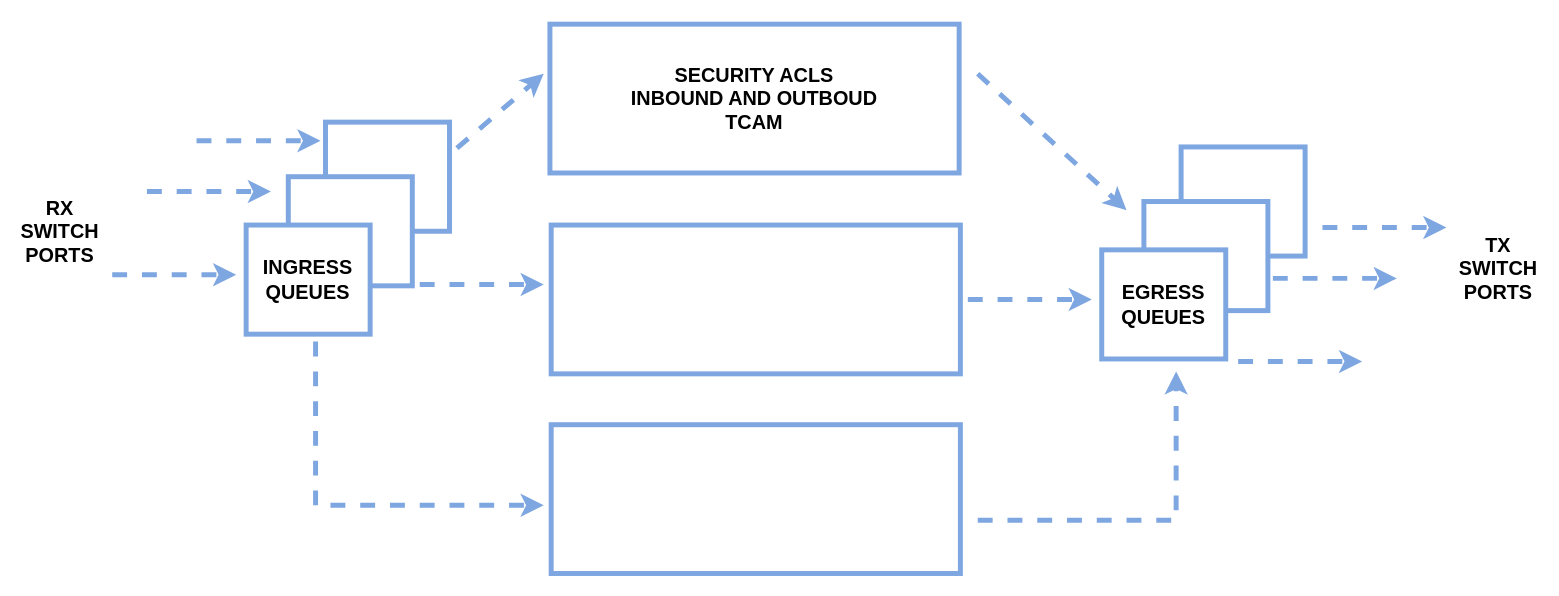
Image size: 1559x596. Some labels were removed from this diagram. The centre of each missing label's shape, as x and y in pixels:
"L2 FORWARDING TABLE (CAM)" goes at [755,498].
"QoS ACLS CLASSIFICATION AND POLICING (TCAM)" goes at [755,299].
